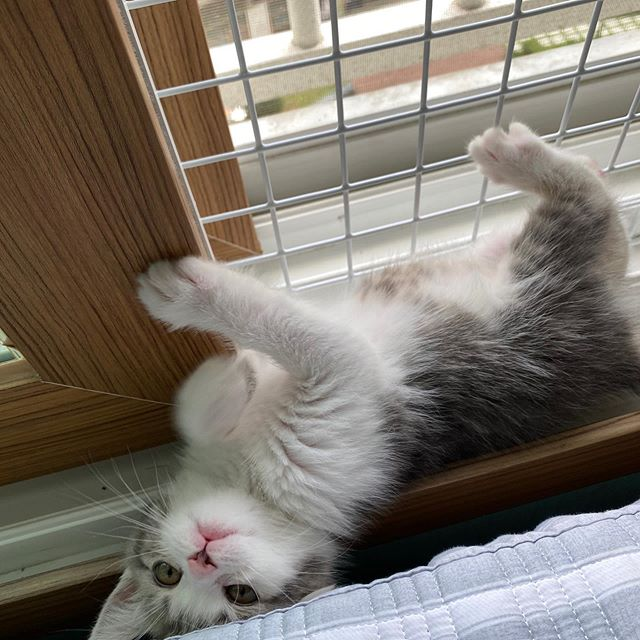cat: (101, 463, 336, 640)
